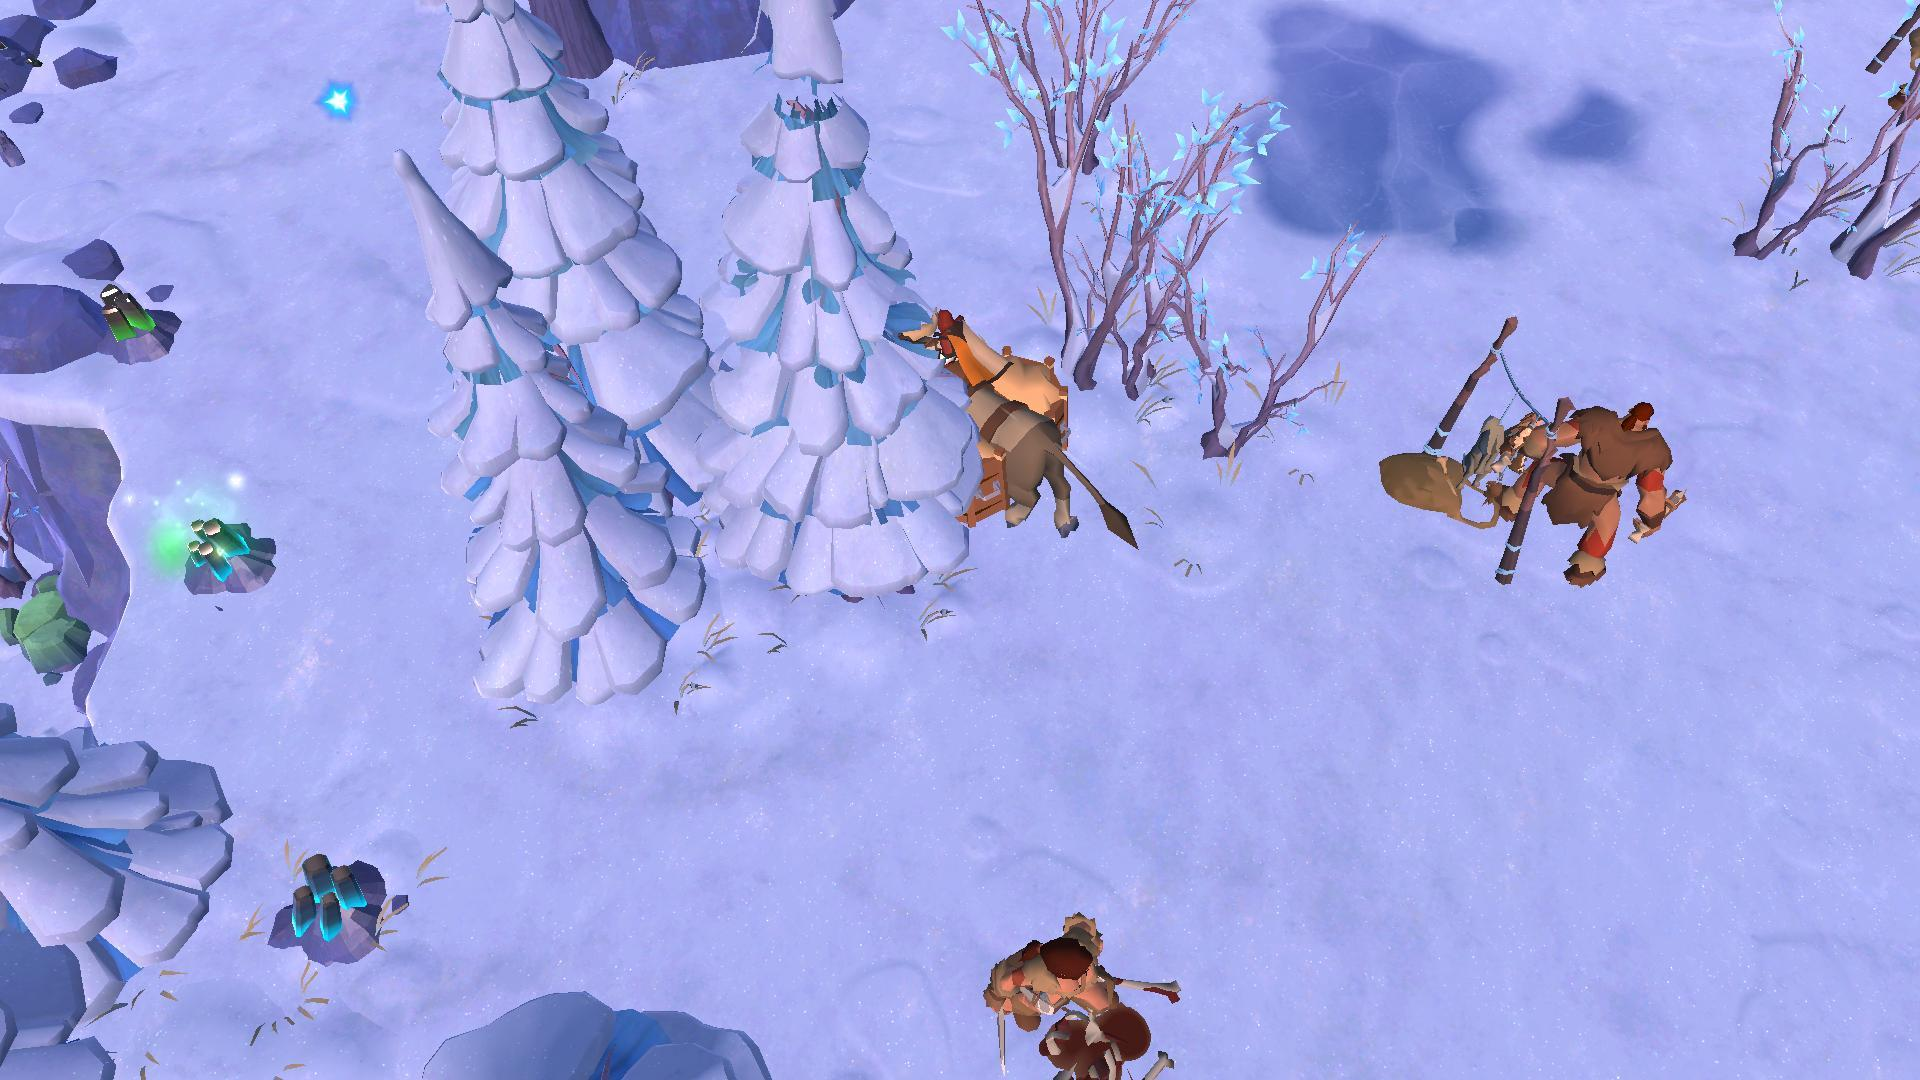enemy_factionKeeper: (1518, 392, 1692, 588), (986, 930, 1143, 1042)
ore_t3: (84, 276, 153, 349)
ore_t4: (284, 849, 363, 938), (174, 514, 245, 580)
rock_t3: (0, 553, 104, 682)
